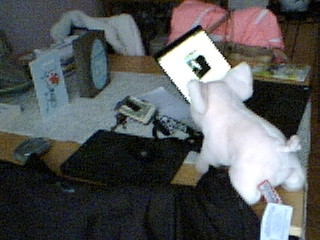piggy: (186, 60, 310, 208)
